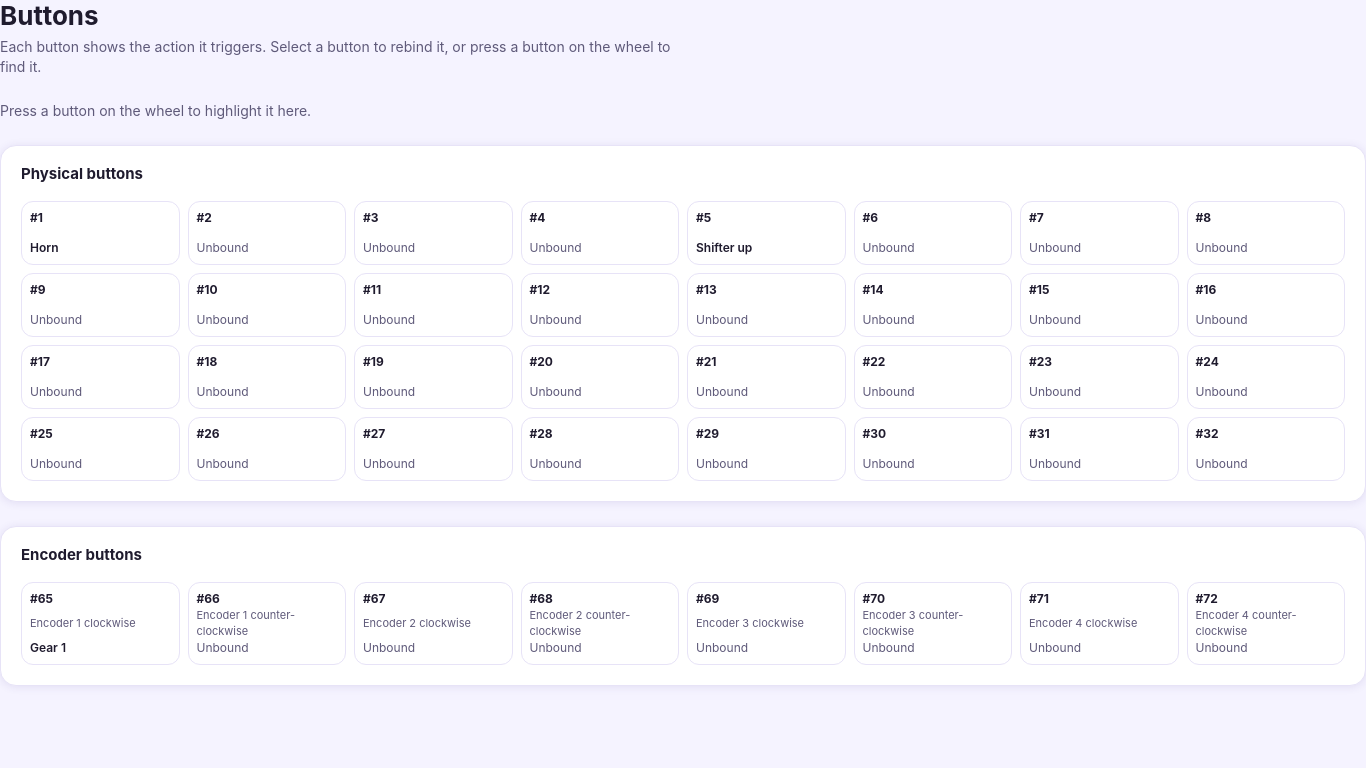
Test: Buttons screen › cancel closes the rebind dialog without saving
Check: the text "Horn" is shown, box [30, 240, 58, 256]
Click the button with aria-label "Rebind button 1" at (100, 232), box [21, 200, 180, 264]
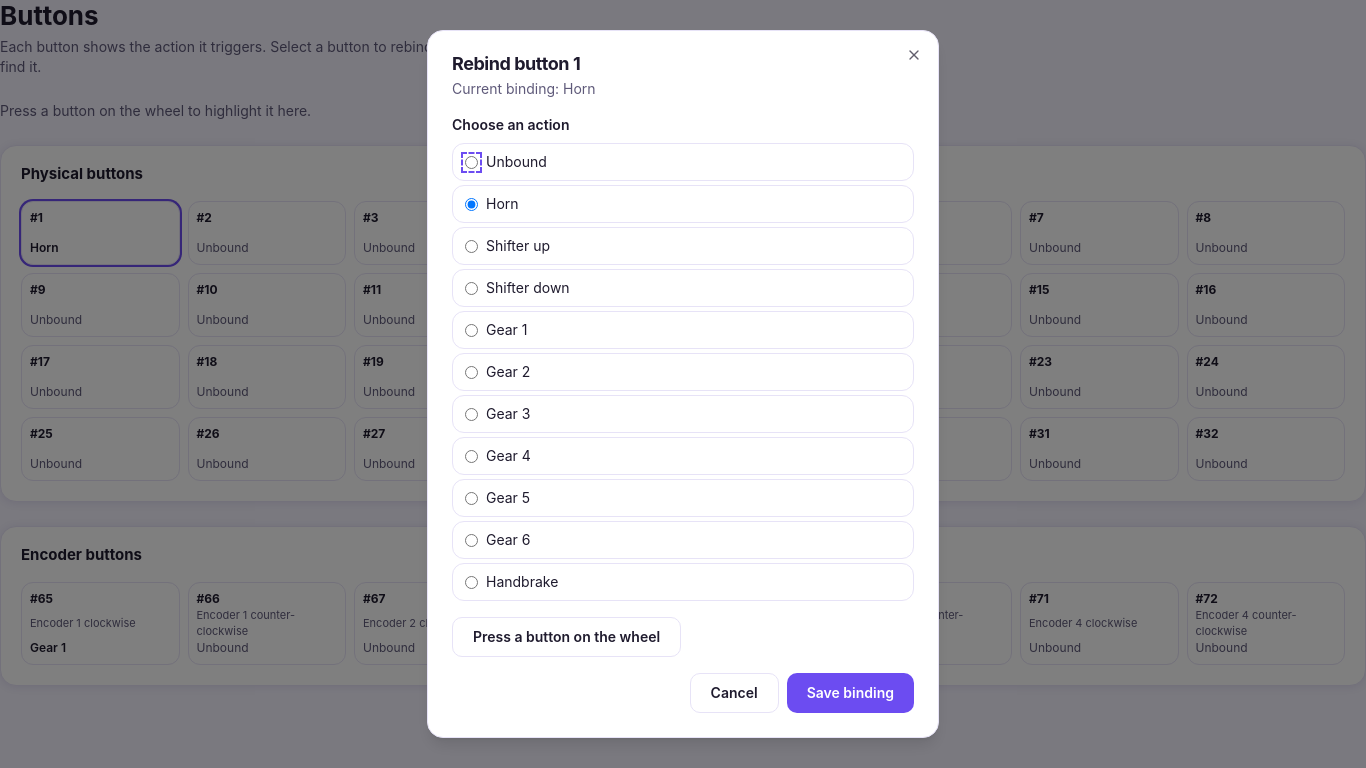
Click the radio button labelled "Handbrake" at (472, 582), box [465, 576, 478, 588]
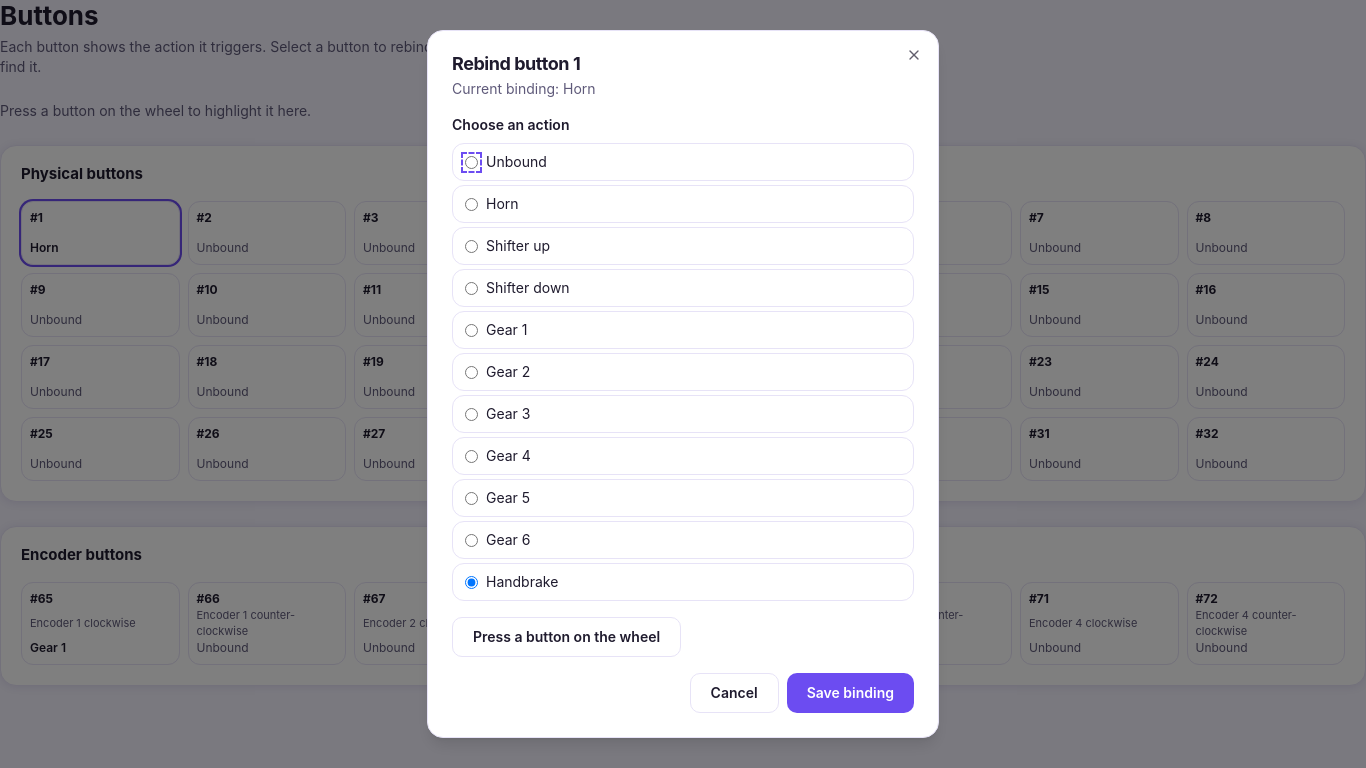
Click the button "Cancel" at (734, 693), box [690, 673, 779, 713]
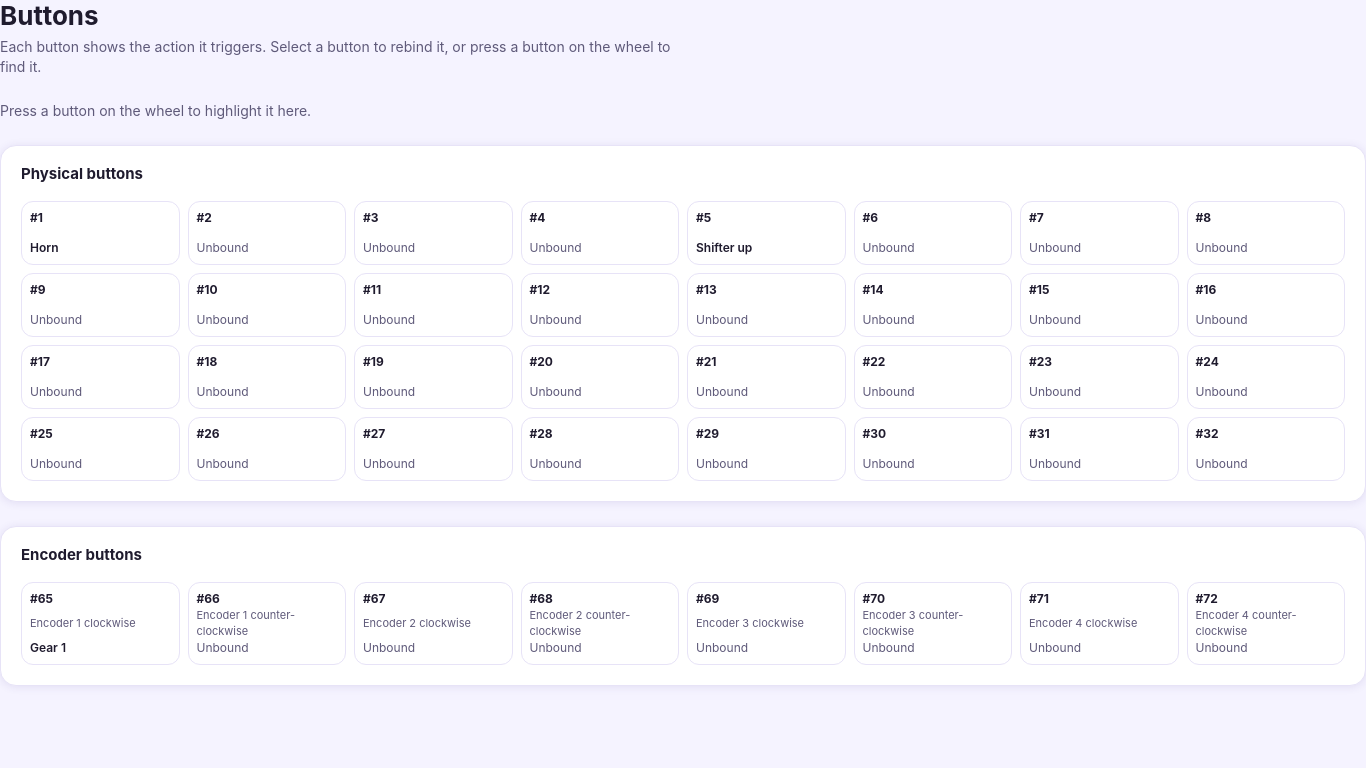
Check: the button "Save binding" is gone
